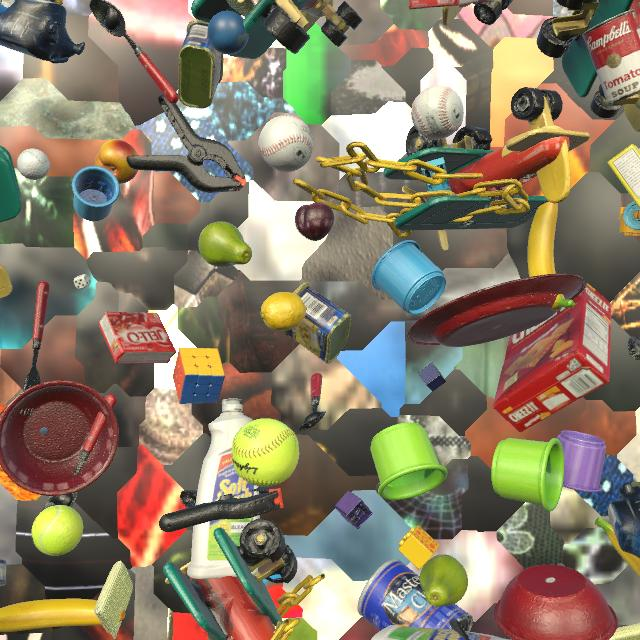ycb_002_master_chef_can: (357, 558, 473, 632)
ycb_003_cracker_box: (493, 283, 611, 432)
ycb_004_sugar_box: (607, 144, 640, 208)
ycb_005_tomato_soup_can: (582, 9, 640, 105), (0, 0, 2, 4)
ycb_007_tuna_fish_can: (0, 559, 7, 587)
ycb_009_gelatin_box: (98, 311, 177, 364), (409, 0, 478, 9)
ycb_010_potted_meat_can: (283, 282, 352, 364), (178, 19, 224, 108)
ycb_011_banana: (528, 202, 575, 311), (0, 599, 125, 632), (595, 517, 640, 578)
ycb_014_lemon: (261, 292, 307, 331)
ycb_015_peach: (95, 139, 138, 184)
ycb_016_pear: (420, 554, 468, 607), (199, 221, 252, 268)
ycb_018_plum: (295, 202, 334, 241)
